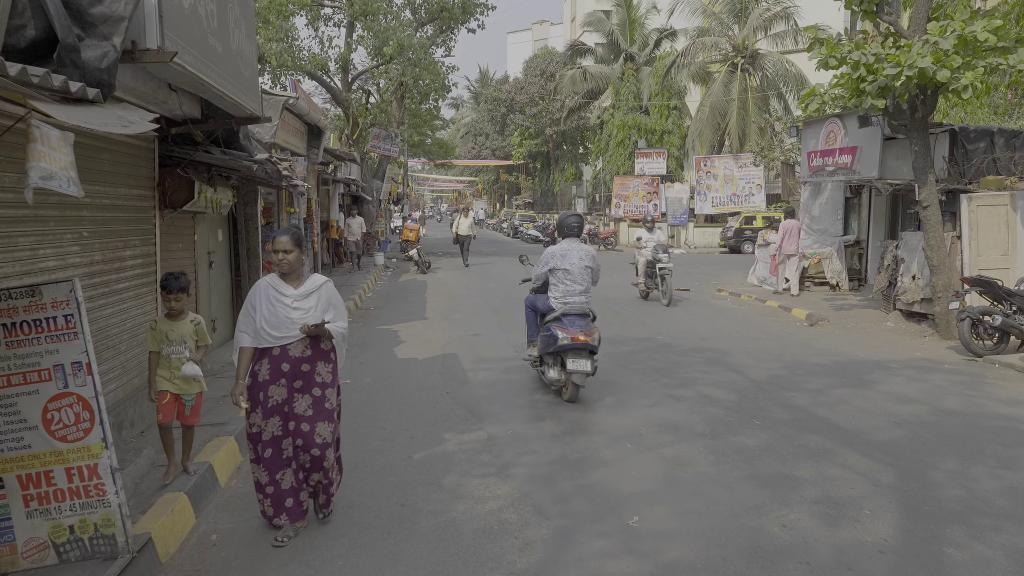garbage: (174, 348, 208, 380)
